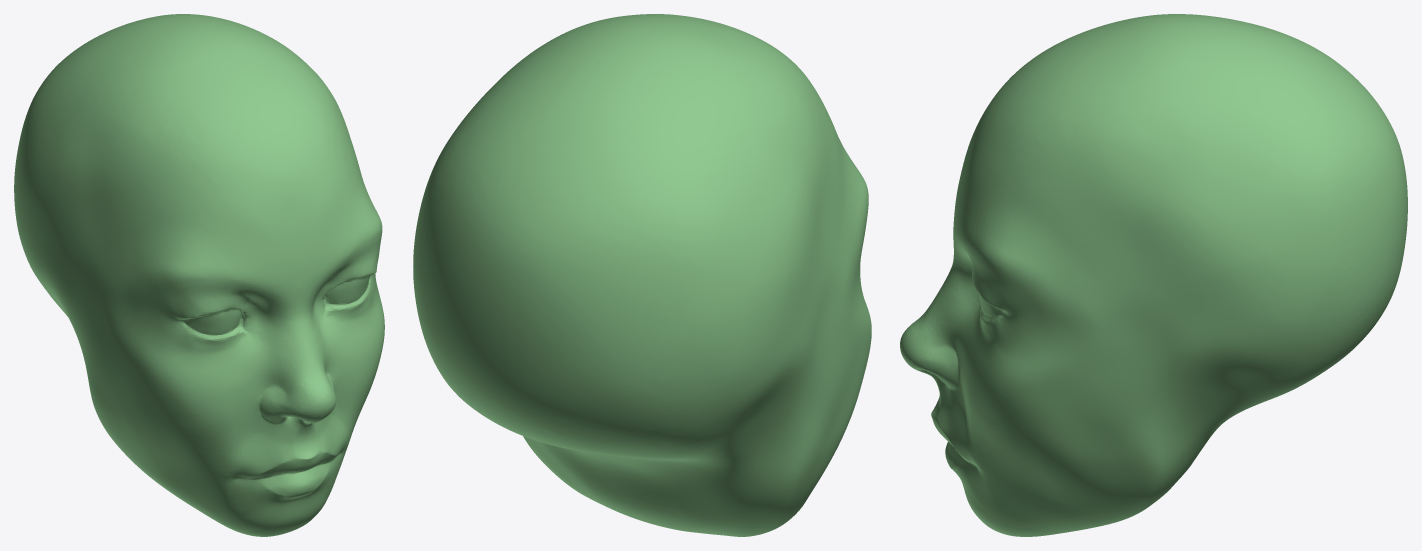
Rendered from green2.gltf.
3 renders of one model, left to right at view 1: azimuth 30°, elevation 25°; view 2: azimuth 150°, elevation 25°; view 3: azimuth 270°, elevation 25°, orthographic. The views are drawn at different scales.
Visible parts, largest first — view 1: ZBrush_defualt_group; view 2: ZBrush_defualt_group; view 3: ZBrush_defualt_group.
Part boxes in pixels (x1,y1,x2,y2): ZBrush_defualt_group: [14, 14, 384, 536]; ZBrush_defualt_group: [413, 14, 871, 536]; ZBrush_defualt_group: [900, 14, 1407, 536].
Size of the model in its own units: 1.12 by 1.7 by 1.57.
